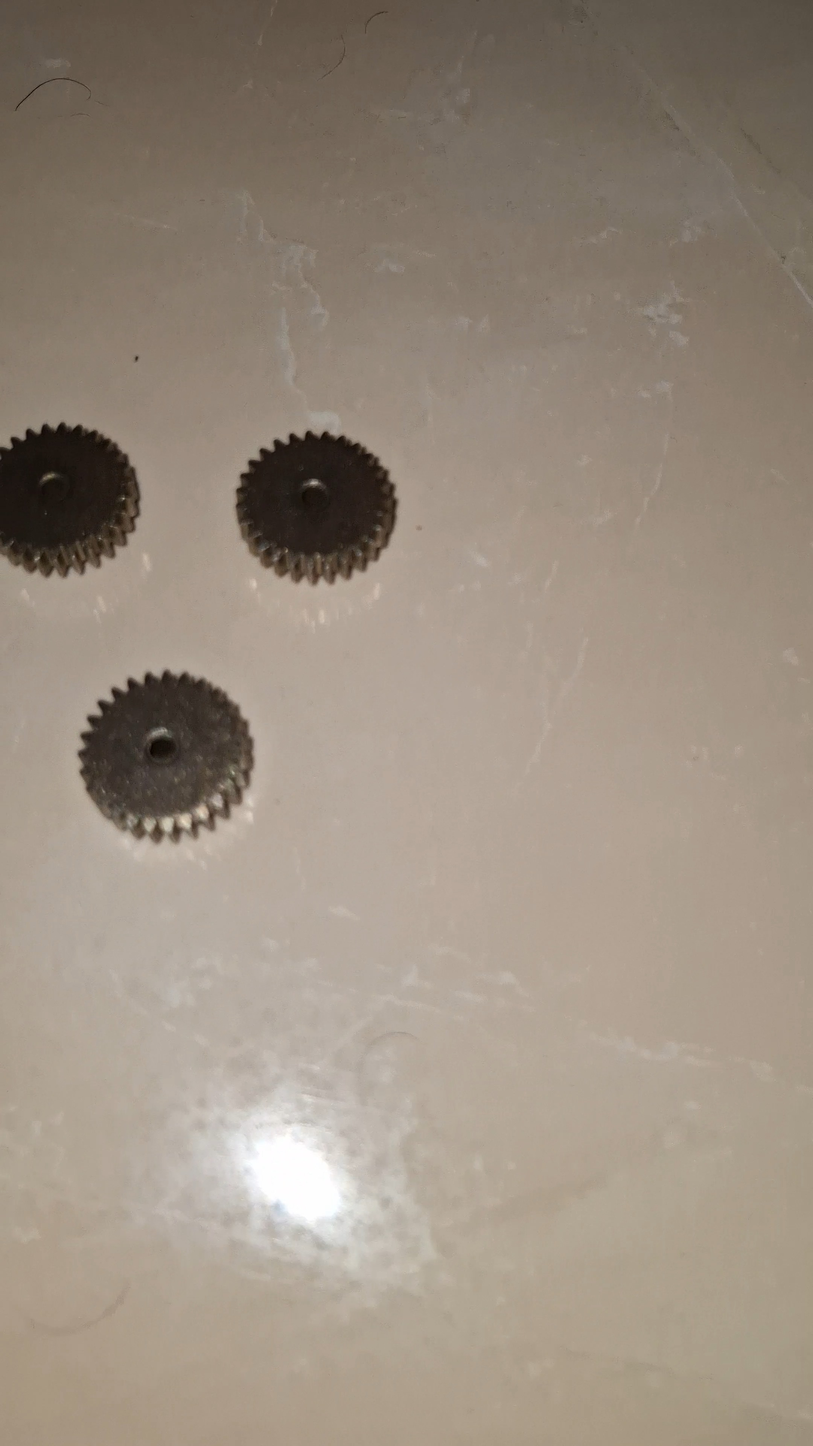spur gear: (79, 671, 252, 840), (237, 432, 396, 582), (0, 423, 139, 575)
